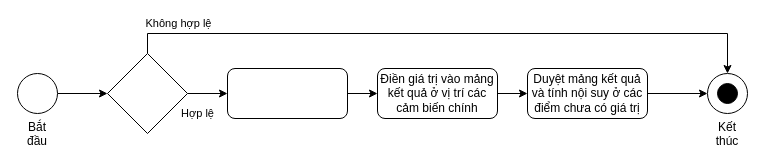
This 765x167 diagram has some shape labels left out. Here are the shapes that lost their labels. From the top down, the centre of each, then its label:
At pixel 147 93: "Kiểm tra đầu vào".
At pixel 287 93: "Khởi tạo mảng ba chiều kết quả".
